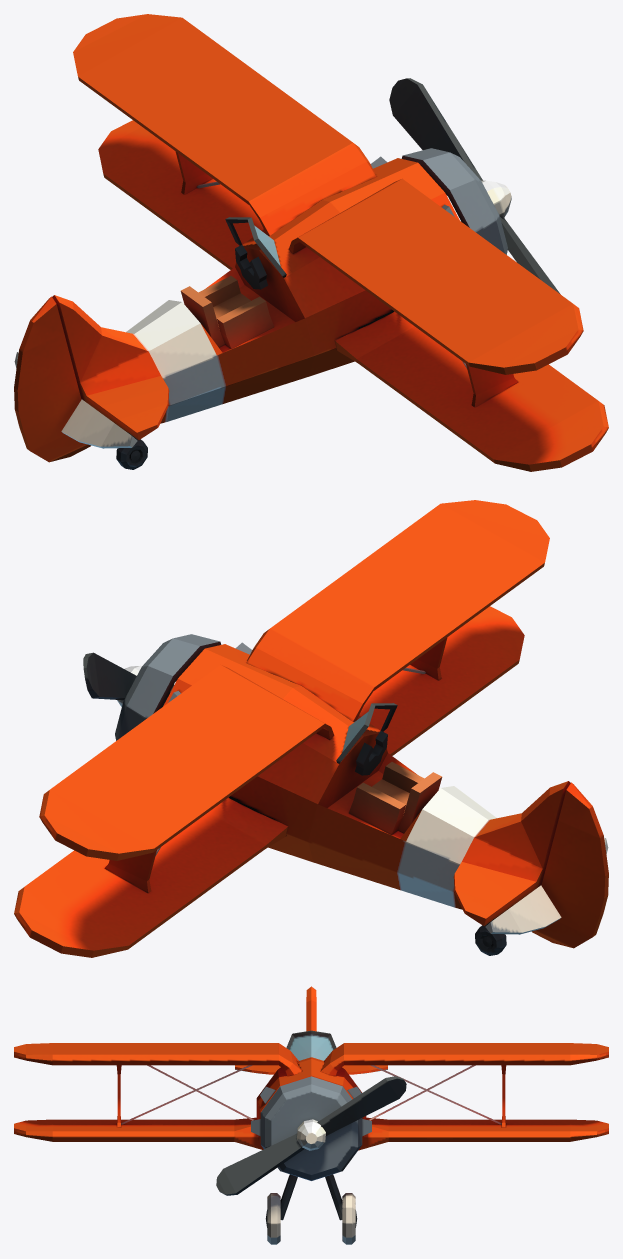
Rendered from airplane-2.glb.
The picture shows the model from 3 angles, top to bottom: view 1: azimuth 30°, elevation 25°; view 2: azimuth 150°, elevation 25°; view 3: azimuth 270°, elevation 25°; orthographic projection. The views are drawn at different scales.
Visible parts, largest first — view 1: PUSHILIN_Plane_Circle.000; view 2: PUSHILIN_Plane_Circle.000; view 3: PUSHILIN_Plane_Circle.000.
Boxes of the visible parts, left/top/right/bottom form: PUSHILIN_Plane_Circle.000: left=14, top=14, right=608, bottom=471; PUSHILIN_Plane_Circle.000: left=14, top=500, right=608, bottom=957; PUSHILIN_Plane_Circle.000: left=14, top=986, right=608, bottom=1244.
Bounding box in the file's own units: 2.43 × 1.21 × 3.78.
1 material, 1 textured.
